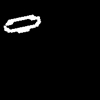chain: (4, 15, 40, 32)
